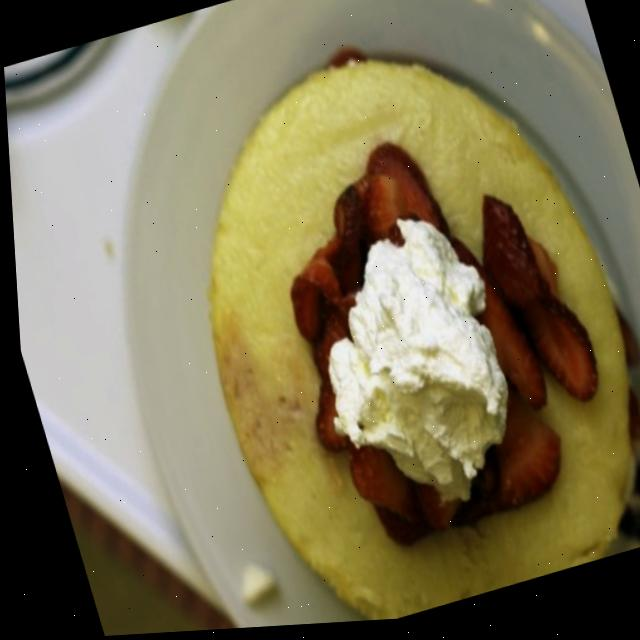蛋糕甜品: (114, 0, 640, 635)
